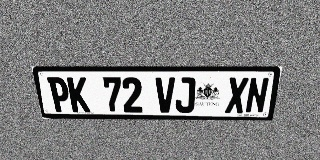2: (122, 77, 142, 113)
7: (101, 77, 123, 112)
J: (175, 77, 196, 113)
K: (67, 77, 90, 112)
N: (245, 77, 270, 113)
P: (47, 77, 72, 112)
V: (155, 77, 175, 113)
X: (225, 77, 249, 113)
